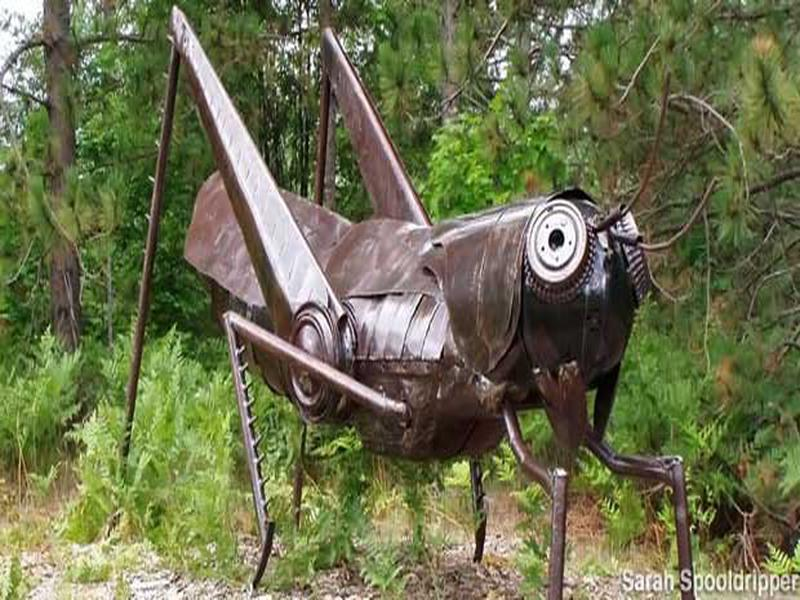Grasshopper: (161, 131, 701, 505)
